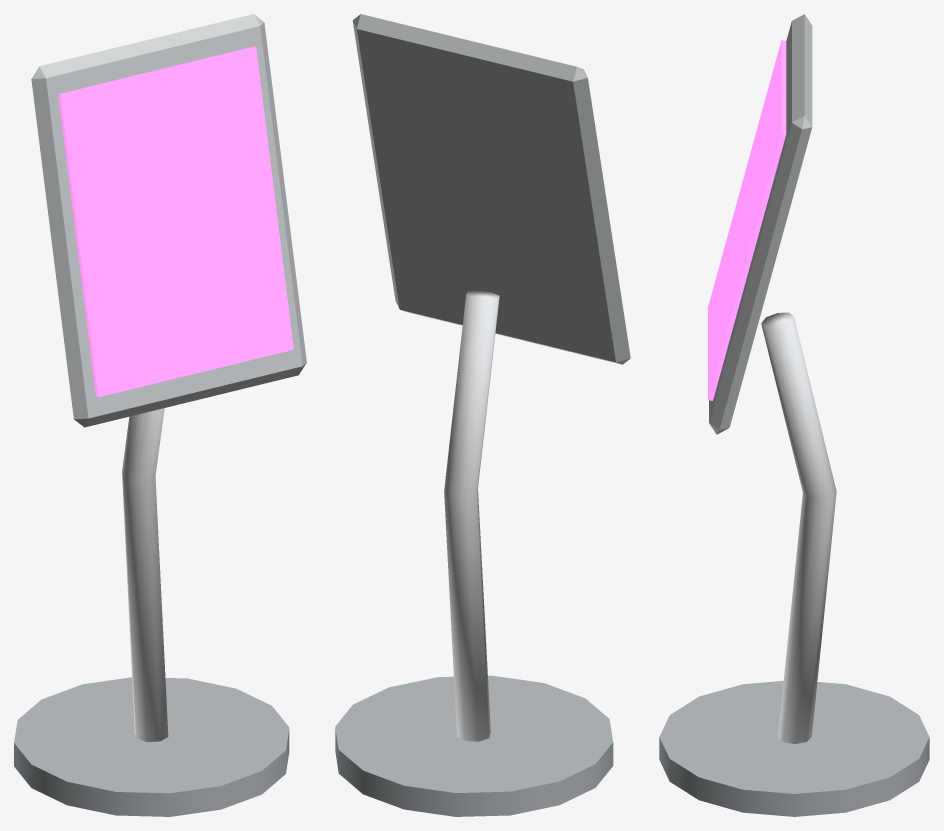
The model's file is an_tablet.glb.
3 renders of one model, left to right at view 1: azimuth 30°, elevation 25°; view 2: azimuth 150°, elevation 25°; view 3: azimuth 270°, elevation 25°, orthographic. The views are drawn at different scales.
Visible parts, largest first — view 1: an_tablet; view 2: an_tablet; view 3: an_tablet.
Boxes of the visible parts, <box> form: an_tablet: <box>14,14,306,816</box>; an_tablet: <box>335,14,630,816</box>; an_tablet: <box>659,14,929,816</box>.
Size of the model in its own units: 0.64 by 1.82 by 0.64.
